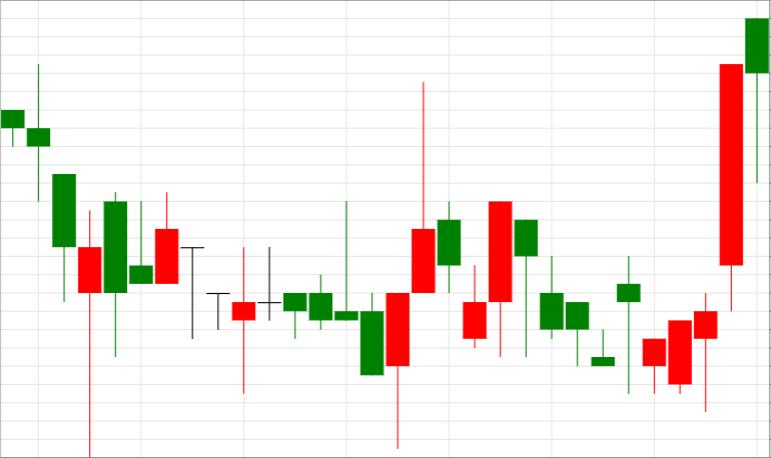hanging_man_fall: (642, 19, 769, 411)
